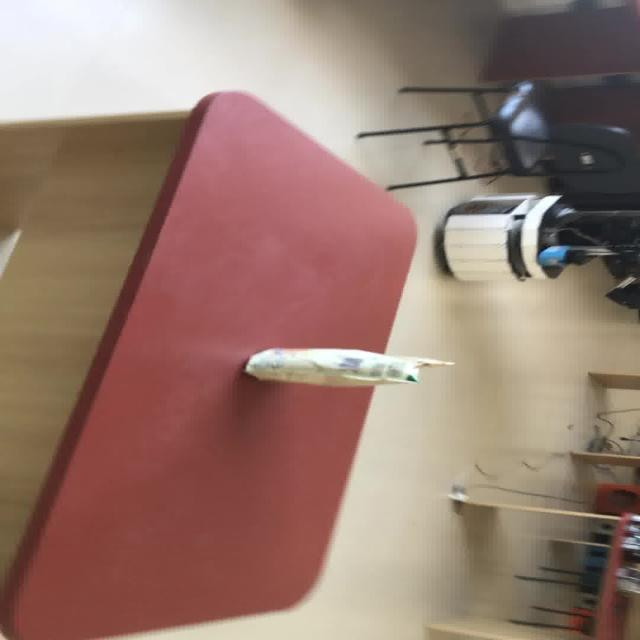corn flakes: (242, 346, 454, 387)
